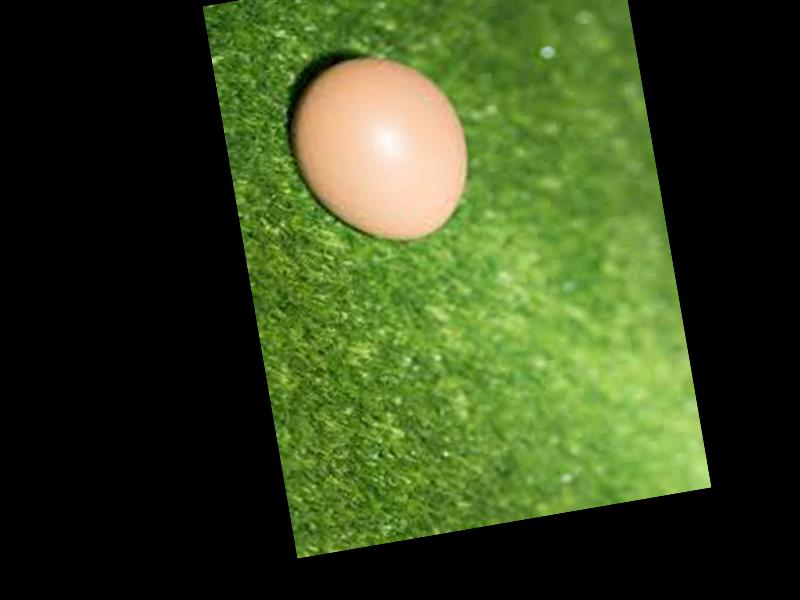Eggs: (278, 41, 478, 259)
